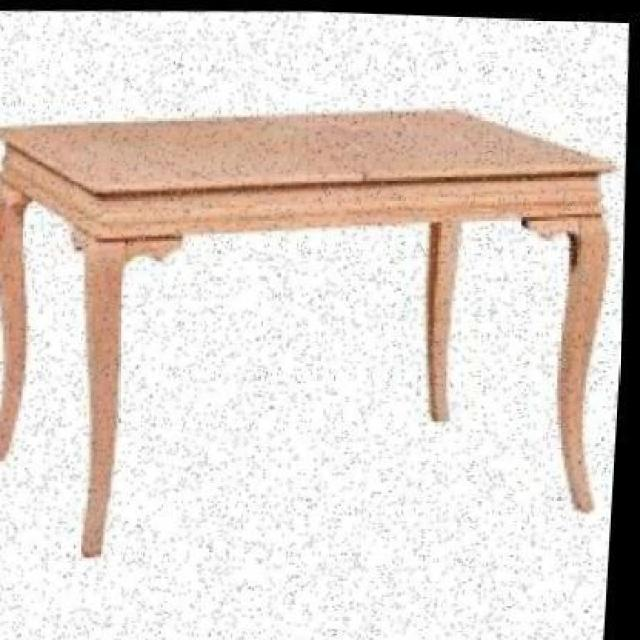tables: (0, 106, 617, 559)
